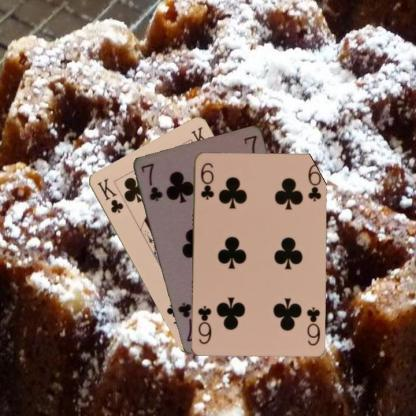6c: (304, 304, 322, 347), (198, 160, 215, 201)
7c: (138, 160, 165, 203)
Kc: (94, 175, 125, 214)
